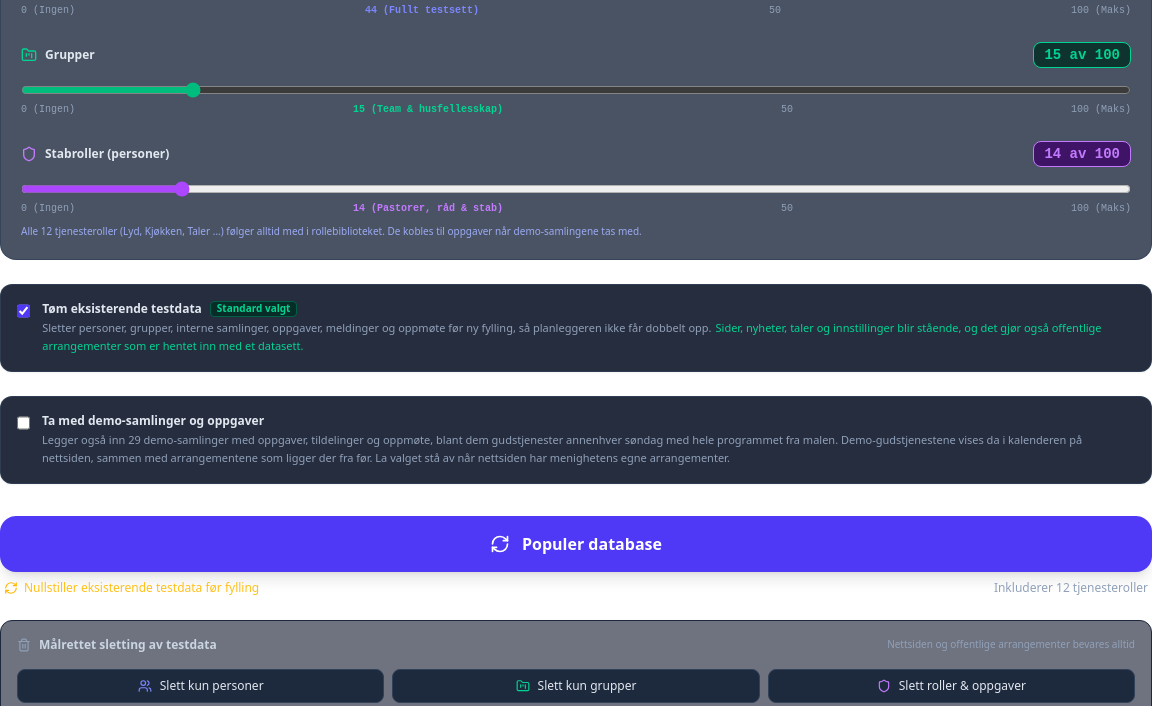
DatabaseTestdataTab Component med testdataService › inneholder en stor 'Populer database'-knapp som kaller testdataService for å generere hele eksempelmenigheten
The width and height of the screenshot is (1152, 706).
(page scrolled)
Click the button "Populer database".
click(576, 544)  # box 0,516 -> 1151,572
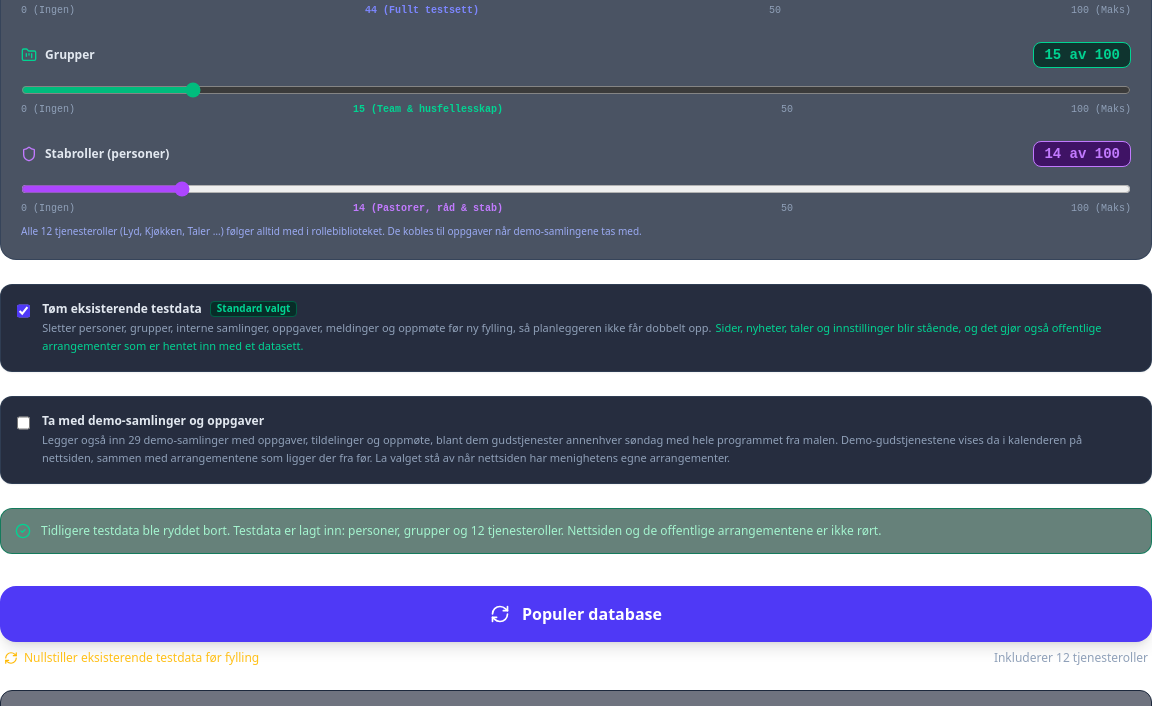
Expected: the text "Testdata er lagt inn: personer, grupper og 12 tjenesteroller. Nettsiden og de offentlige arrangementene er ikke rørt." is shown, 41,522 -> 881,538
